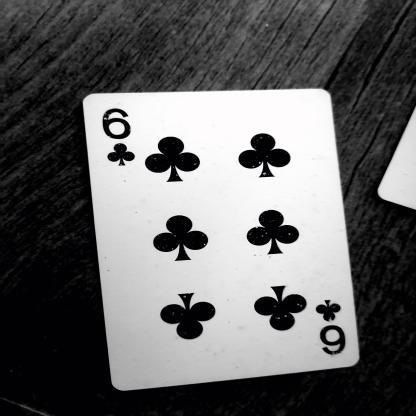6C: (100, 104, 142, 173), (312, 297, 350, 364)
